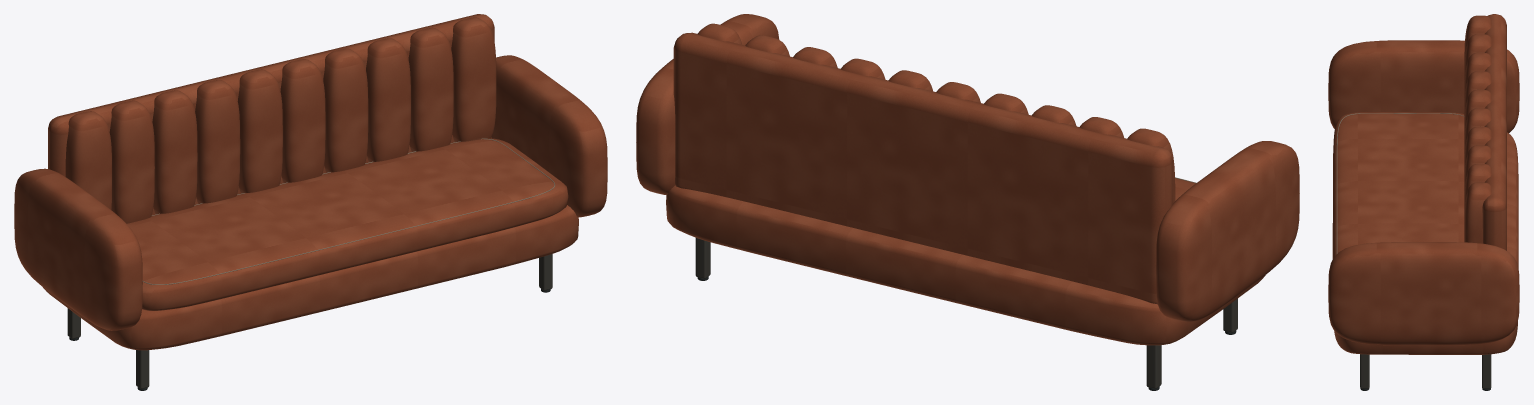
The picture shows the model from 3 angles, left to right: view 1: azimuth 30°, elevation 25°; view 2: azimuth 150°, elevation 25°; view 3: azimuth 270°, elevation 25°; orthographic projection. The views are drawn at different scales.
Parts seen in each view (by area): view 1: Leather | full length seat, Leather | seat deck, Leather | narrow rolled arm, Leather | narrow rolled arm.001, Leather | vertical back channel.009, Leather | vertical back channel.002, Leather | vertical back channel.006, Leather | vertical back channel.005, Leather | vertical back channel.008, Leather | vertical back channel.003, Leather | vertical back channel.007, Leather | vertical back channel.004 (+5 smaller); view 2: Back | structural upholstered shell, Leather | seat deck, Leather | narrow rolled arm, Leather | narrow rolled arm.001, Leather | vertical back channel, Frame | timber leg.001, Frame | timber leg.003, Leather | vertical back channel.006, Leather | vertical back channel.009, Leather | vertical back channel.003, Leather | vertical back channel.001, Leather | vertical back channel.004 (+4 smaller); view 3: Leather | narrow rolled arm.001, Leather | full length seat, Leather | narrow rolled arm, Back | structural upholstered shell, Leather | seat deck, Leather | vertical back channel.009, Leather | vertical back channel, Leather | vertical back channel.002, Leather | vertical back channel.004, Leather | vertical back channel.001, Leather | vertical back channel.003, Leather | vertical back channel.005 (+6 smaller).
Part boxes in pixels (x1,y1,x2,y2): Leather | full length seat: [127, 138, 568, 310]; Leather | seat deck: [43, 205, 578, 350]; Leather | narrow rolled arm: [14, 168, 142, 330]; Leather | narrow rolled arm.001: [492, 55, 607, 217]; Leather | vertical back channel.009: [451, 17, 496, 142]; Leather | vertical back channel.002: [152, 90, 197, 214]; Leather | vertical back channel.006: [323, 48, 368, 172]; Leather | vertical back channel.005: [280, 59, 325, 183]; Leather | vertical back channel.008: [408, 27, 453, 151]; Leather | vertical back channel.003: [195, 80, 240, 203]; Leather | vertical back channel.007: [366, 38, 410, 162]; Leather | vertical back channel.004: [237, 69, 282, 193]; Back | structural upholstered shell: [673, 32, 1173, 304]; Leather | seat deck: [666, 185, 1265, 345]; Leather | narrow rolled arm: [1156, 141, 1299, 321]; Leather | narrow rolled arm.001: [636, 14, 779, 194]; Leather | vertical back channel: [1127, 128, 1175, 202]; Frame | timber leg.001: [1146, 345, 1161, 388]; Frame | timber leg.003: [695, 238, 710, 278]; Leather | vertical back channel.006: [841, 58, 885, 79]; Leather | vertical back channel.009: [697, 23, 741, 44]; Leather | vertical back channel.003: [984, 93, 1028, 114]; Leather | vertical back channel.001: [1079, 117, 1123, 137]; Leather | vertical back channel.004: [936, 82, 980, 102]; Leather | narrow rolled arm.001: [1328, 242, 1519, 345]; Leather | full length seat: [1333, 112, 1464, 258]; Leather | narrow rolled arm: [1328, 40, 1519, 132]; Back | structural upholstered shell: [1482, 14, 1506, 250]; Leather | seat deck: [1332, 132, 1518, 354]; Leather | vertical back channel.009: [1464, 182, 1491, 243]; Leather | vertical back channel: [1464, 15, 1491, 69]; Leather | vertical back channel.002: [1464, 52, 1491, 106]; Leather | vertical back channel.004: [1464, 89, 1491, 143]; Leather | vertical back channel.001: [1464, 34, 1491, 88]; Leather | vertical back channel.003: [1464, 71, 1491, 125]; Leather | vertical back channel.005: [1464, 108, 1491, 162].
Size of the model in its own units: 2.33 by 0.996 by 0.865.
4 materials, 1 textured.
